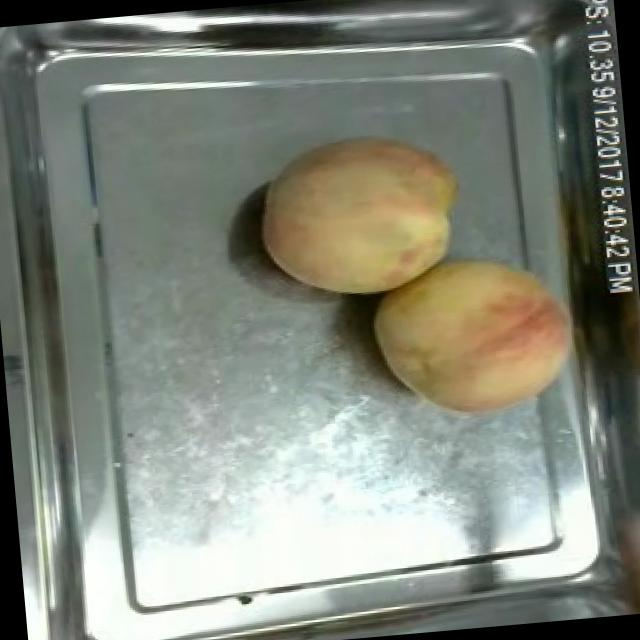Fruit: (359, 238, 588, 436), (246, 121, 474, 311)
